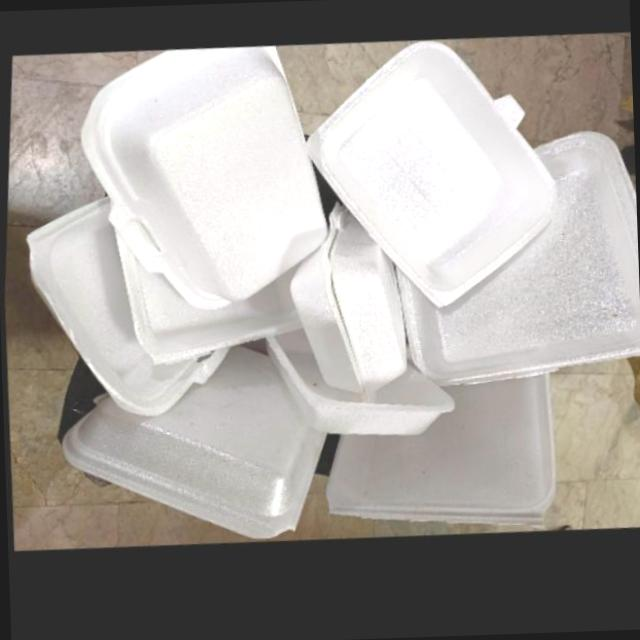xop: (300, 44, 550, 309), (74, 52, 323, 316), (392, 131, 640, 388), (59, 352, 324, 545), (21, 203, 227, 424), (324, 375, 555, 528), (112, 240, 298, 371), (286, 205, 403, 406), (261, 333, 452, 439)
